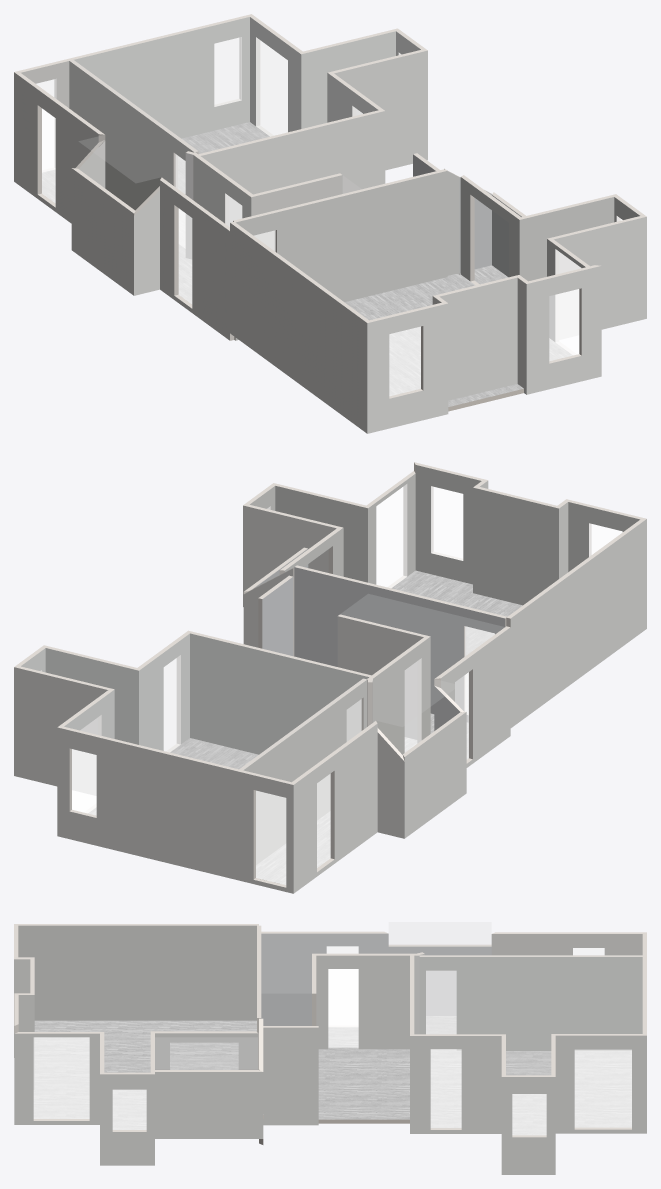
The picture shows the model from 3 angles, top to bottom: view 1: azimuth 30°, elevation 25°; view 2: azimuth 150°, elevation 25°; view 3: azimuth 270°, elevation 25°; orthographic projection. The views are drawn at different scales.
Visible parts, largest first — view 1: ceiling_Bedroom_2, wall_26, wall_24.001, wall_0, ceiling_Other_0, wall_1.001, wall_28, wall_9.001, wall_10.001, wall_11.001, wall_25.001, wall_5.001 (+39 smaller); view 2: ceiling_Bedroom_2, wall_0.001, wall_24.001, wall_1, wall_26.001, ceiling_Other_0, wall_9, wall_2.001, wall_28, wall_32.001, wall_3.001, wall_25.001 (+38 smaller); view 3: wall_24, ceiling_Bedroom_2, wall_28.001, floor_Bedroom_1, floor_Bedroom_2, ceiling_Other_0, wall_19.001, wall_30.001, wall_7.001, floor_Other_0, wall_25, wall_22.001 (+33 smaller).
Part boxes in pixels (x1,y1,x2,y2): ceiling_Bedroom_2: [72, 17, 420, 153]; wall_26: [235, 171, 447, 340]; wall_24.001: [230, 223, 367, 433]; wall_0: [74, 17, 249, 138]; ceiling_Other_0: [22, 61, 249, 207]; wall_1.001: [201, 111, 385, 226]; wall_28: [69, 61, 193, 210]; wall_9.001: [439, 277, 517, 400]; wall_10.001: [367, 303, 448, 433]; wall_11.001: [526, 266, 601, 394]; wall_25.001: [160, 180, 229, 340]; wall_5.001: [554, 217, 646, 329]; ceiling_Bedroom_2: [22, 634, 366, 768]; wall_0.001: [57, 727, 238, 880]; wall_24.001: [510, 519, 646, 727]; wall_1: [190, 633, 368, 754]; wall_26.001: [294, 567, 505, 722]; ceiling_Other_0: [242, 637, 475, 781]; wall_9: [473, 487, 558, 605]; wall_2.001: [293, 723, 377, 893]; wall_28: [243, 680, 367, 864]; wall_32.001: [14, 667, 107, 786]; wall_3.001: [404, 712, 466, 838]; wall_25.001: [441, 627, 510, 767]; wall_24: [18, 925, 256, 1020]; ceiling_Bedroom_2: [415, 956, 641, 1074]; wall_28.001: [419, 957, 642, 1050]; floor_Bedroom_1: [34, 1020, 256, 1129]; floor_Bedroom_2: [431, 1050, 631, 1134]; ceiling_Other_0: [312, 922, 641, 955]; wall_19.001: [155, 1072, 263, 1138]; wall_30.001: [316, 955, 419, 1049]; wall_7.001: [410, 1036, 501, 1133]; floor_Other_0: [318, 1047, 409, 1119]; wall_25: [261, 933, 388, 1025]; wall_22.001: [263, 1027, 318, 1125].
Bounding box in the file's own units: 8.58 × 2.7 × 14.65.
81 materials, 9 textured.
